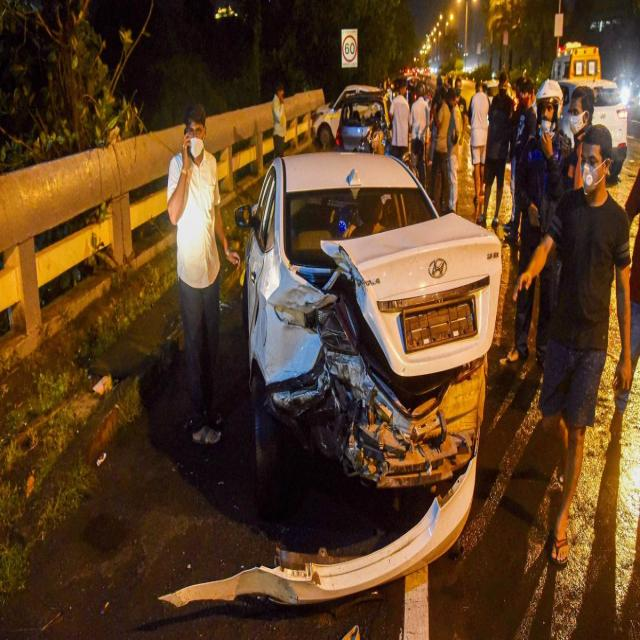accident: (169, 153, 501, 605)
